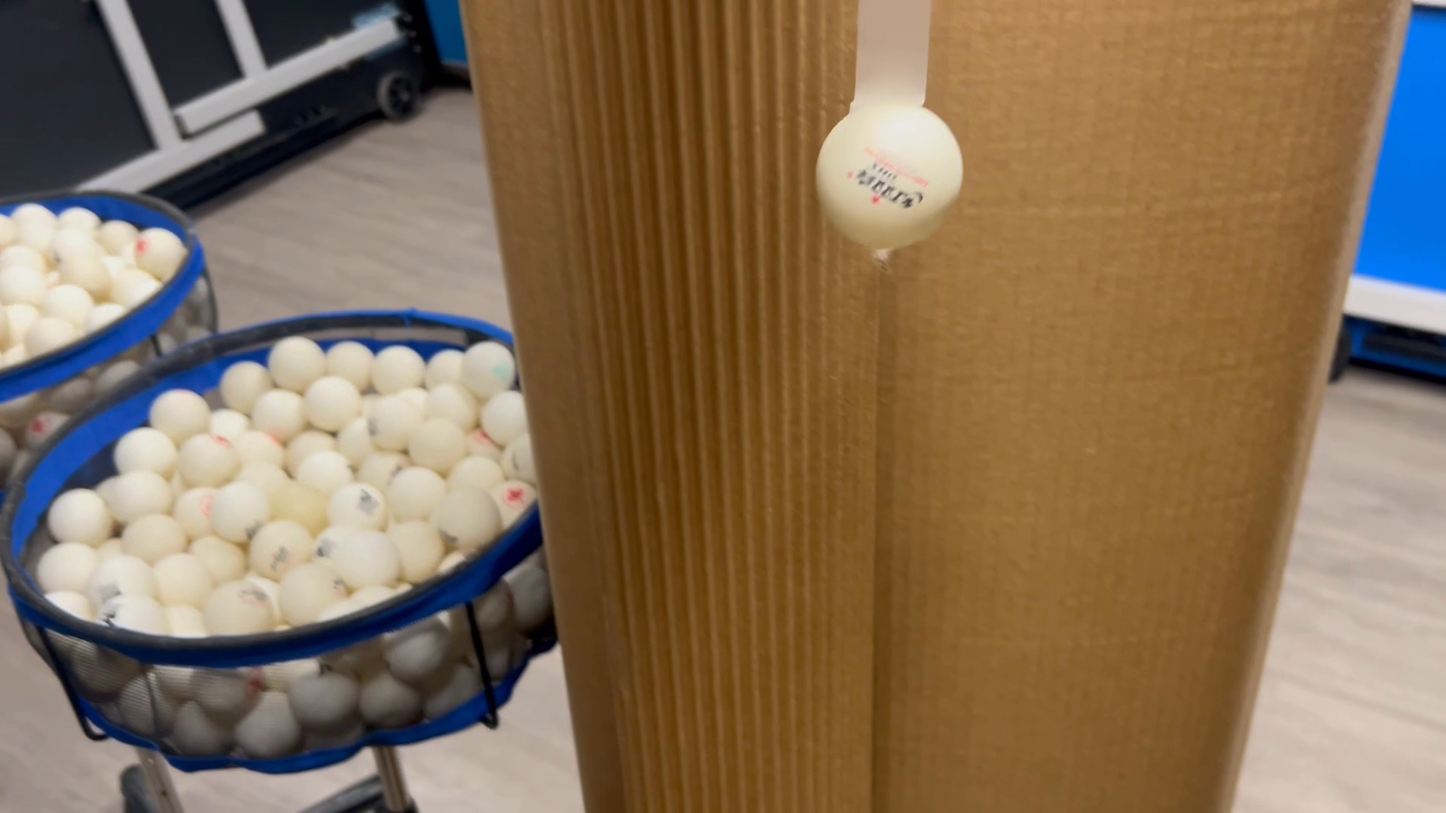Ball: (805, 113, 985, 241)
